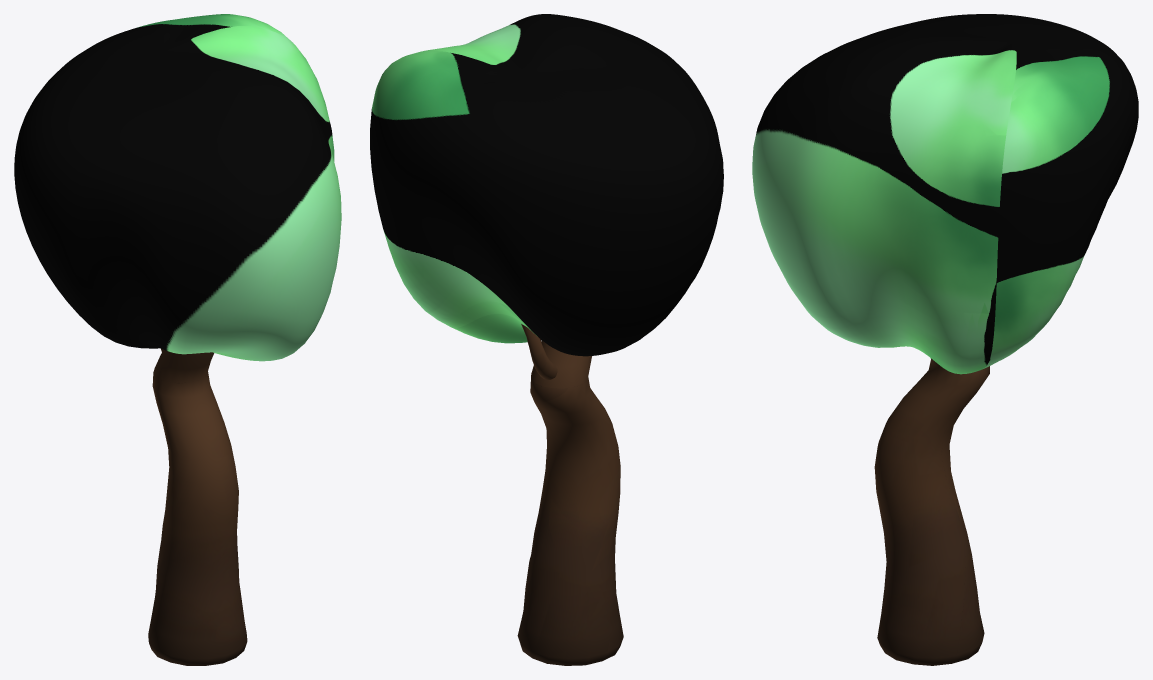
Rendered from tree 2.fbx.
The picture shows the model from 3 angles, left to right: view 1: azimuth 30°, elevation 25°; view 2: azimuth 150°, elevation 25°; view 3: azimuth 270°, elevation 25°; orthographic projection. The views are drawn at different scales.
Parts seen in each view (by area): view 1: Cylinder; view 2: Cylinder; view 3: Cylinder.
Part boxes in pixels (x1,y1,x2,y2): Cylinder: (14, 14, 341, 665); Cylinder: (370, 14, 723, 665); Cylinder: (752, 14, 1138, 665).
Size of the model in its own units: 573 by 1070 by 607.
